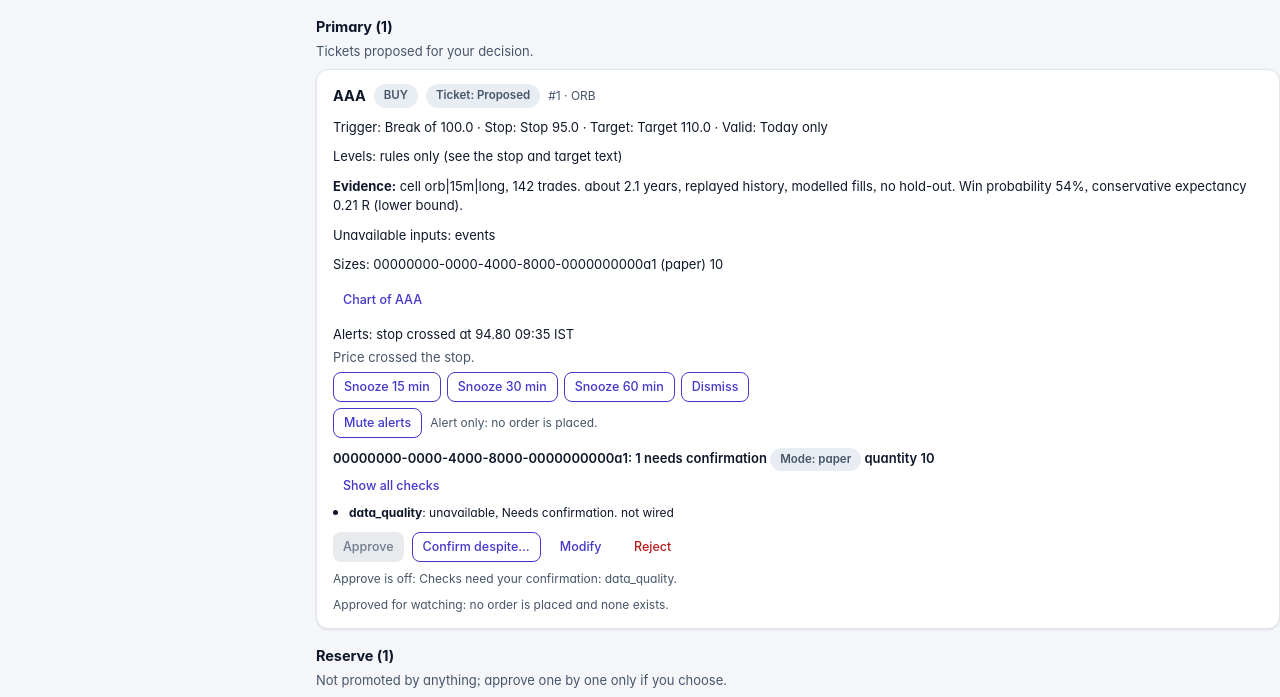
Test: Ticket alerts › shows the snooze limit in words
(page scrolled)
Click the button with aria-label "Snooze stop crossed 60 minutes" at [619, 387], box 564,372 -> 675,402
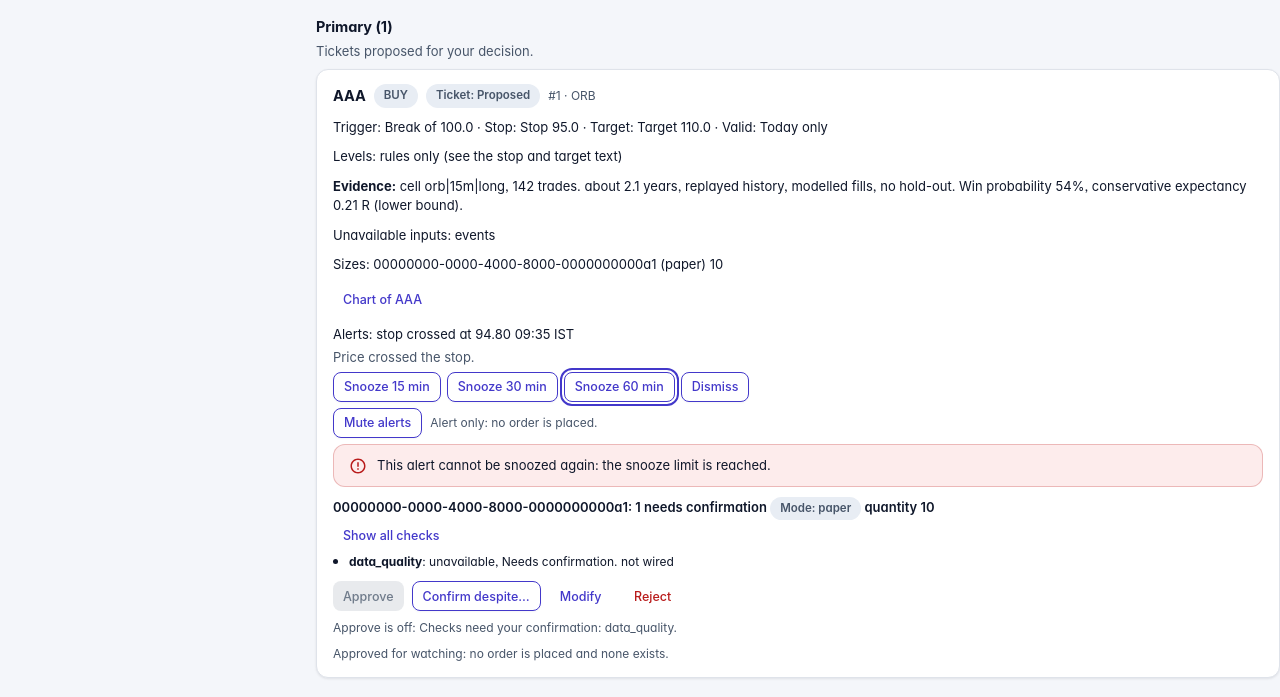
Check: the text "snooze limit is reached" is shown, box 377,457 -> 771,473
